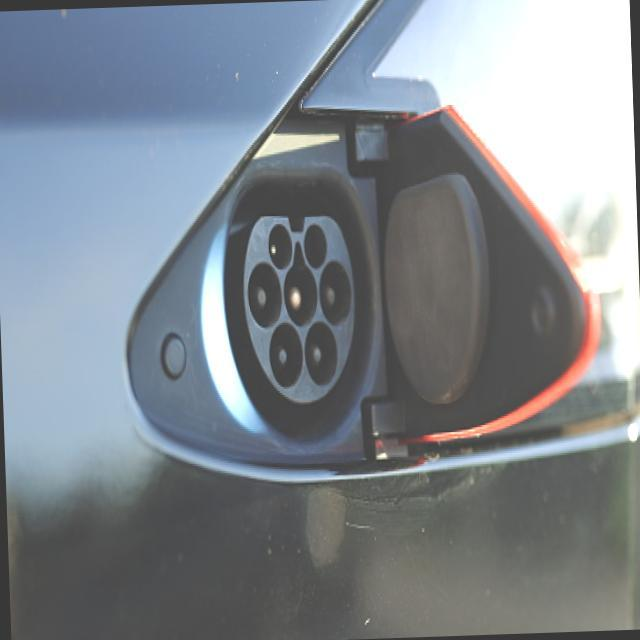Type 2: (215, 183, 403, 431)
